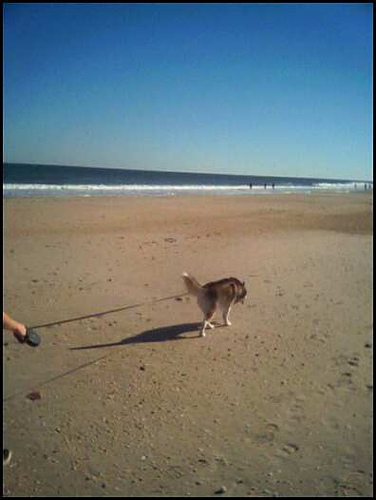dog: (177, 270, 249, 337)
